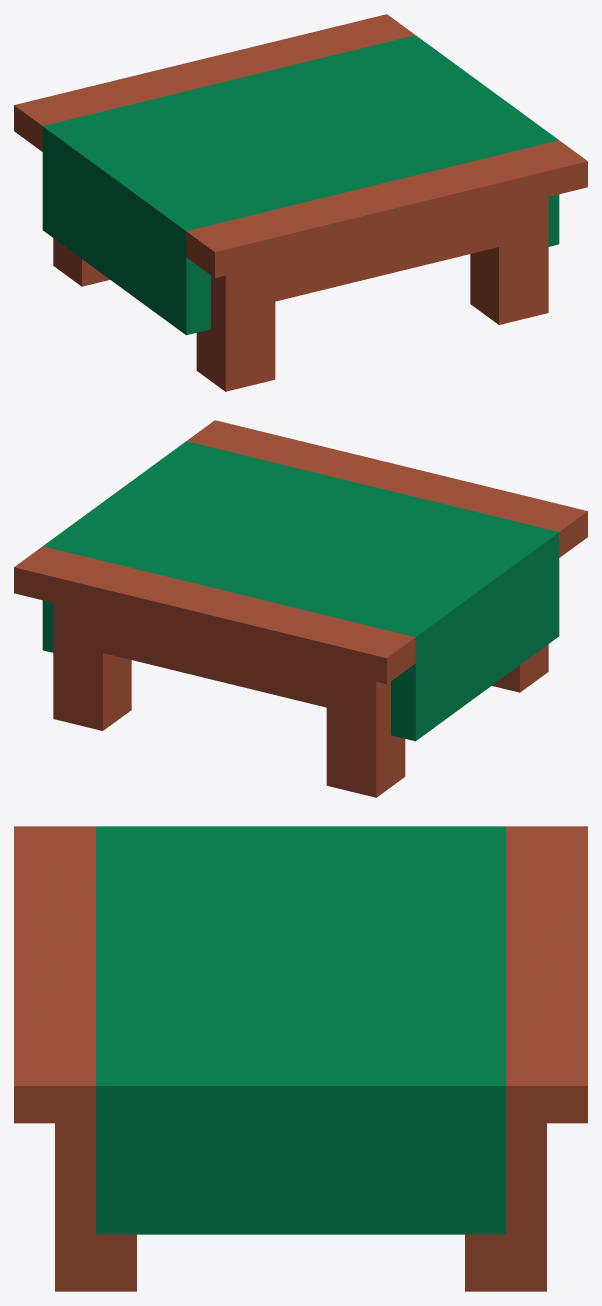
File: small_table_a_green.obj
The picture shows the model from 3 angles, top to bottom: view 1: azimuth 30°, elevation 25°; view 2: azimuth 150°, elevation 25°; view 3: azimuth 270°, elevation 25°; orthographic projection. The views are drawn at different scales.
Size of the model in its own units: 1.5 by 0.6 by 1.4.
Materials: 1 (1 with a texture image).
